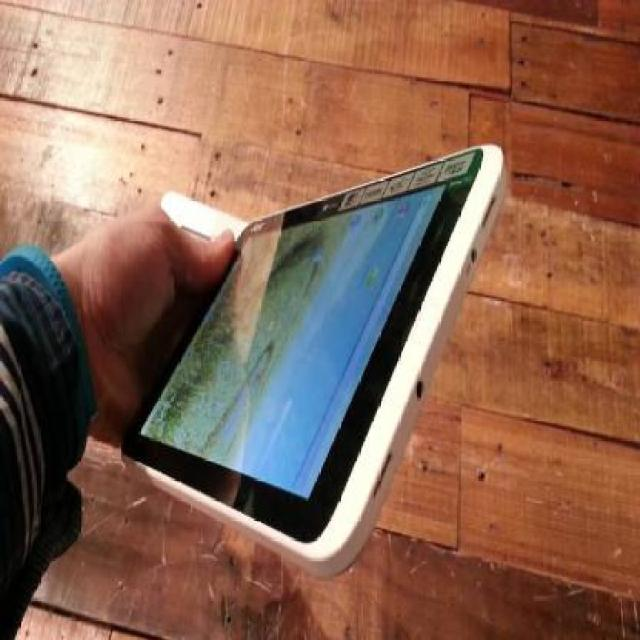tablet: (124, 130, 528, 569)
